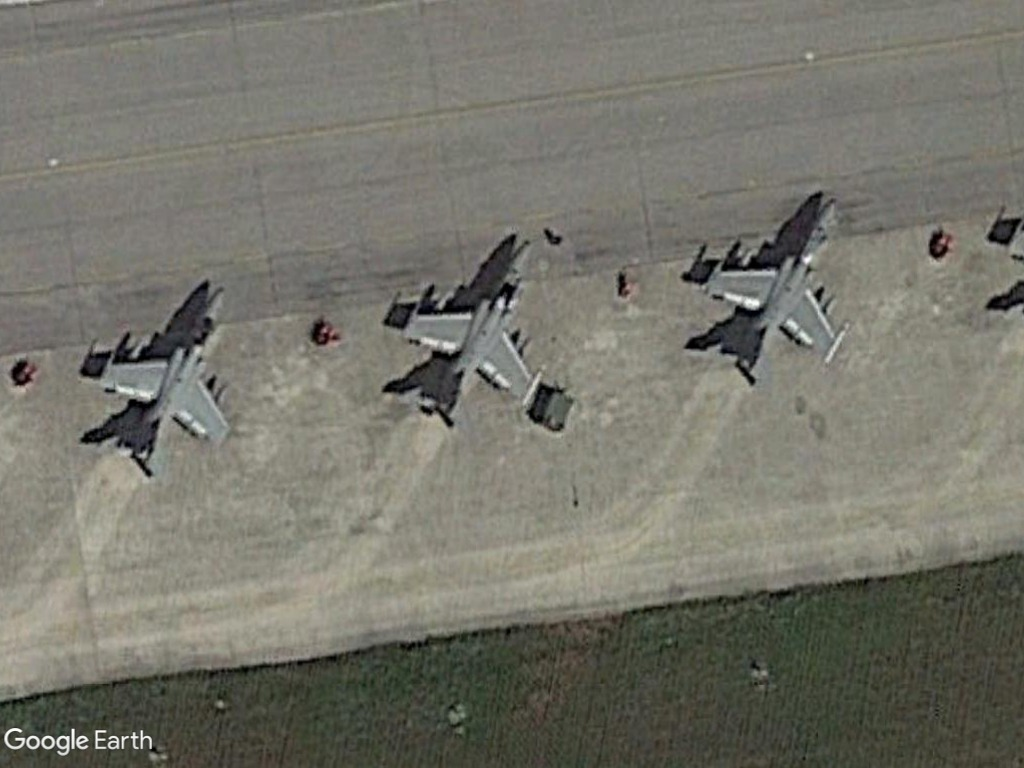fighter: (699, 192, 854, 393), (393, 235, 549, 432), (96, 280, 245, 486)
